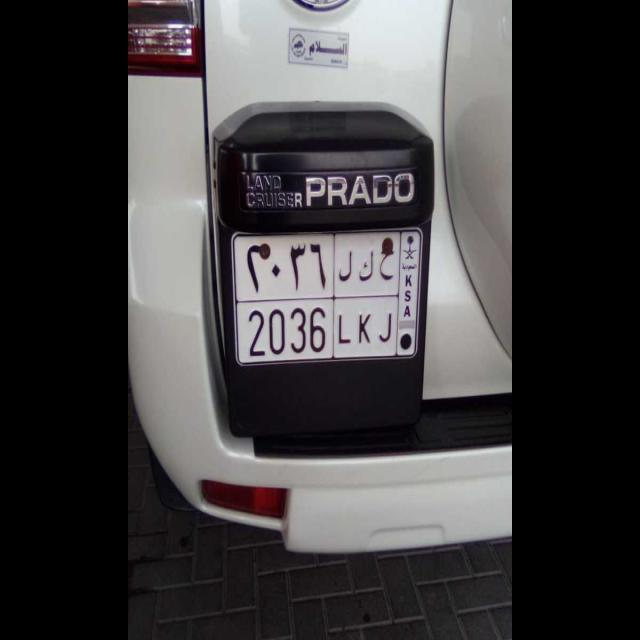license_plate: (238, 294, 398, 366)
